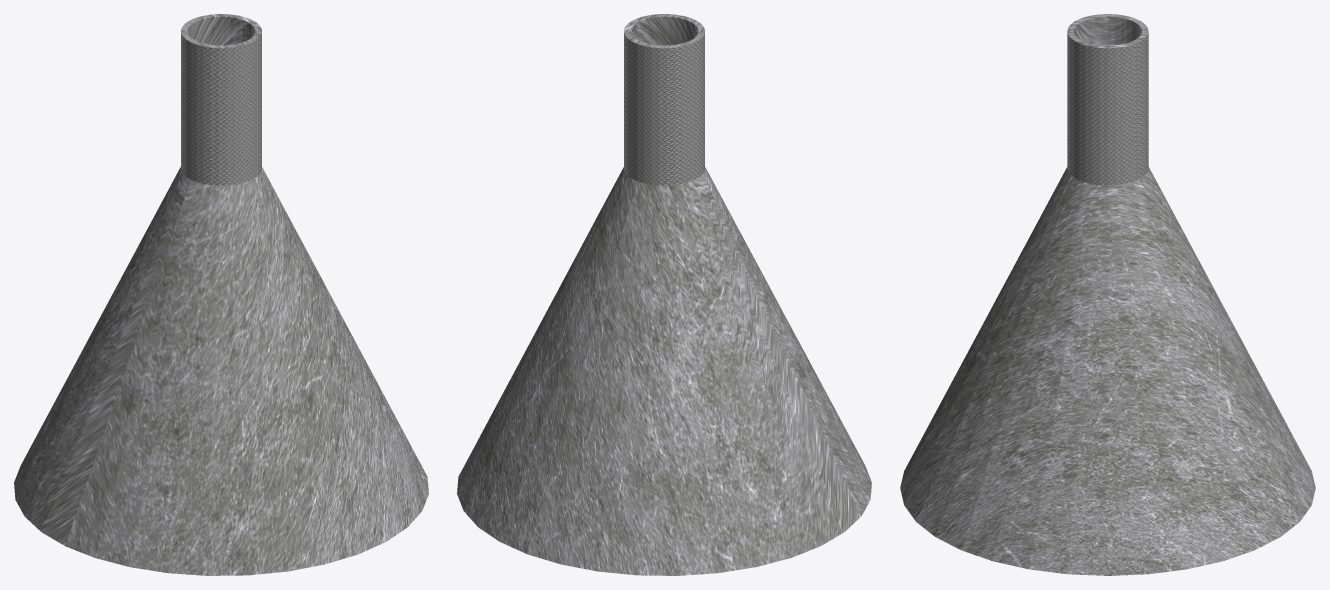
File: Lamp.dae
The picture shows the model from 3 angles, left to right: view 1: azimuth 30°, elevation 25°; view 2: azimuth 150°, elevation 25°; view 3: azimuth 270°, elevation 25°; orthographic projection.
Visible parts, largest first — view 1: Circle.001; view 2: Circle.001; view 3: Circle.001.
Boxes of the visible parts, box(x1,y1,x2,y2) form: Circle.001: box(14, 14, 428, 575); Circle.001: box(457, 14, 871, 575); Circle.001: box(900, 14, 1315, 575).
Size of the model in its own units: 2 by 2 by 2.43.
Materials: 2 (2 with a texture image).
